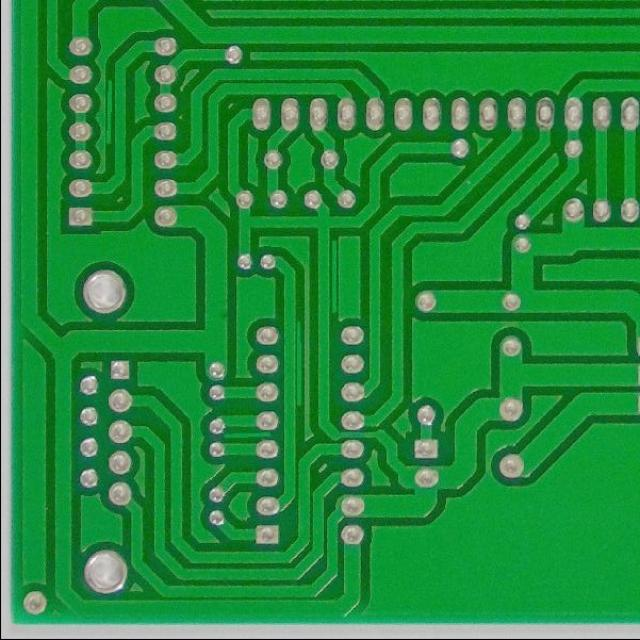Spurious_Cooper: (290, 315, 304, 411), (328, 236, 340, 316), (103, 73, 114, 146), (222, 427, 274, 442)
